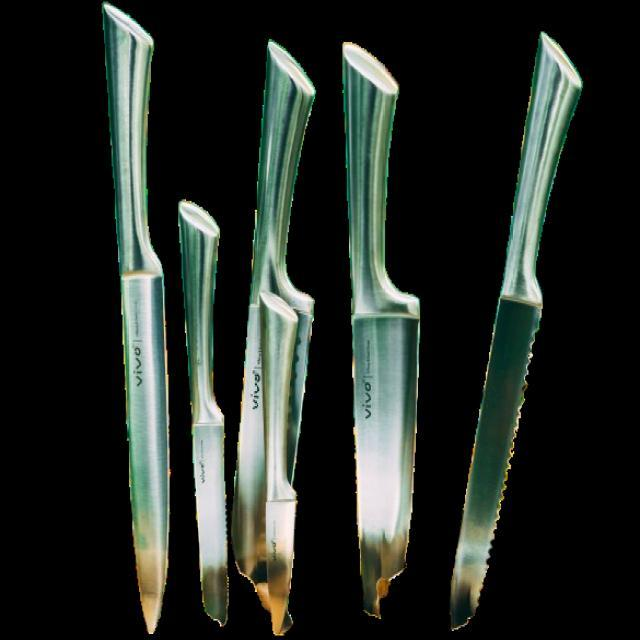knife: (445, 12, 587, 639), (231, 10, 321, 636), (338, 23, 422, 623), (97, 0, 167, 639), (175, 187, 231, 635), (266, 288, 299, 620)
